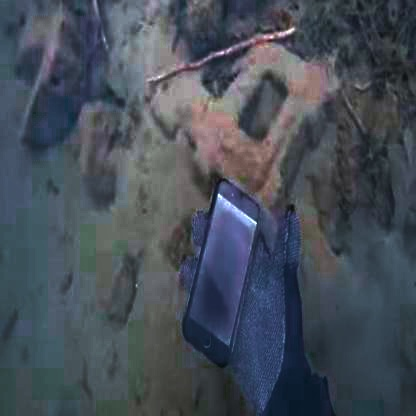cellphone: (184, 180, 261, 365)
